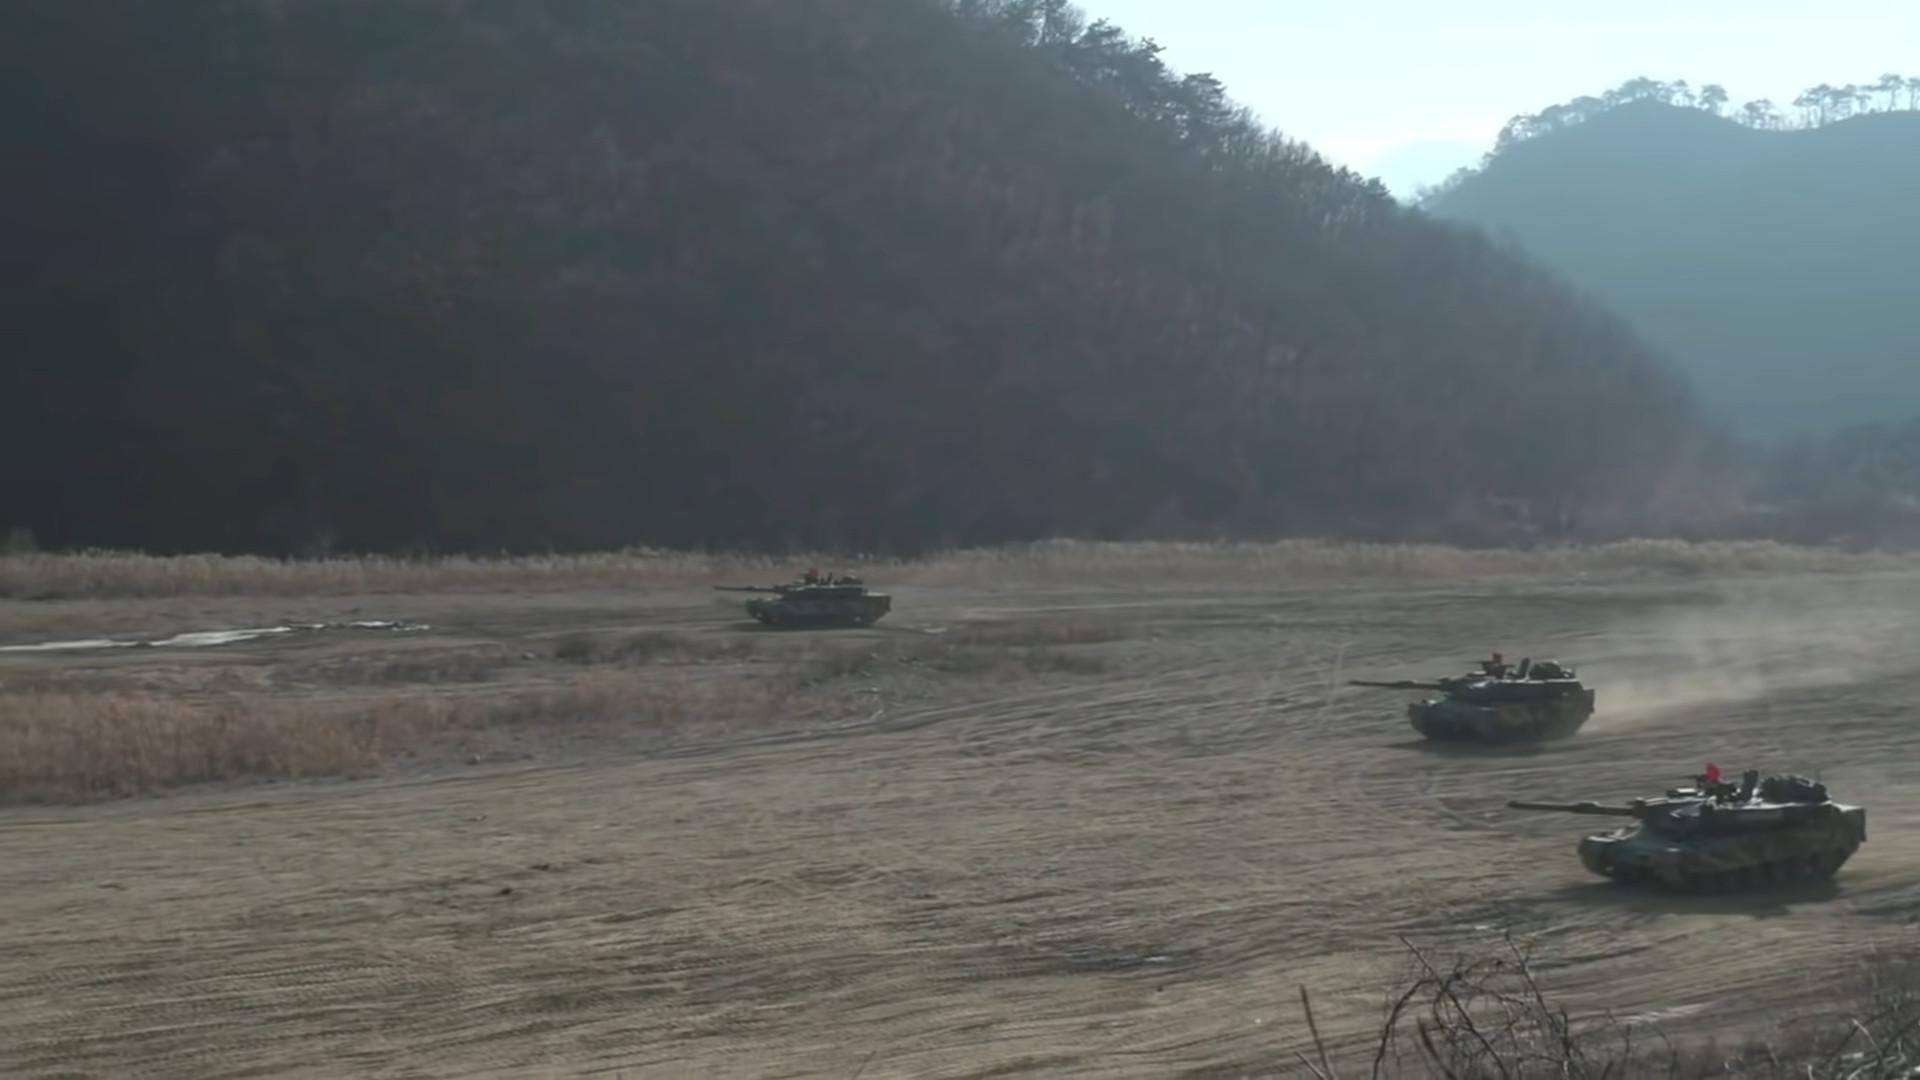tank: (1511, 770, 1866, 897), (1348, 651, 1596, 745), (714, 572, 890, 626)
